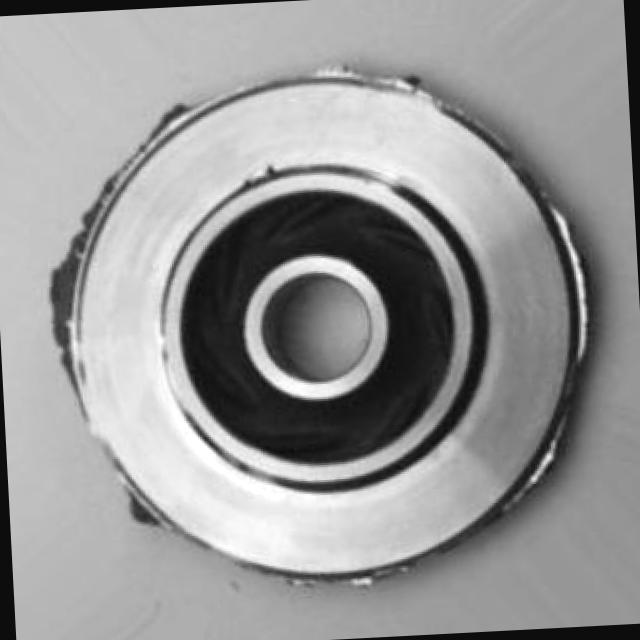Defect: (553, 216, 596, 335)
